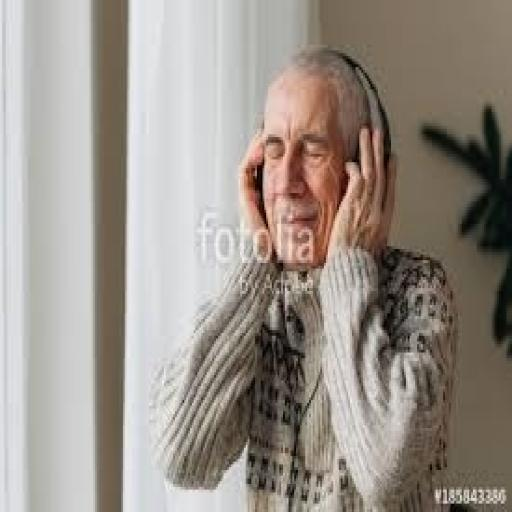listening_to_music: (149, 42, 460, 509)
